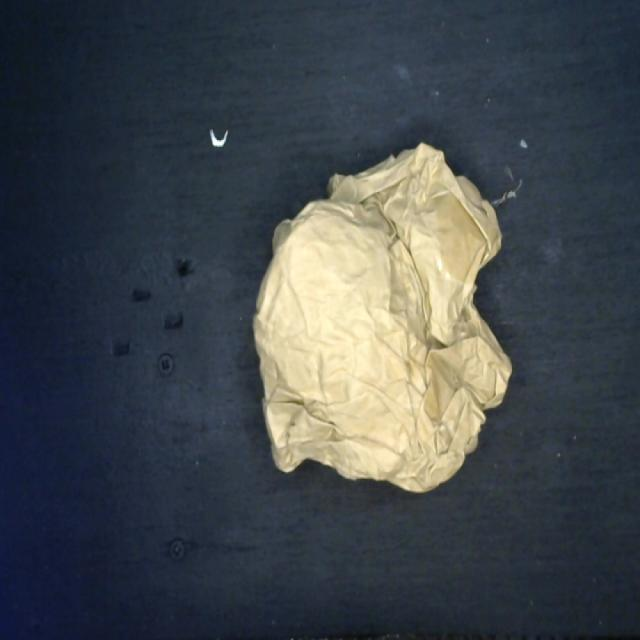biodegradable: (250, 138, 523, 498)
